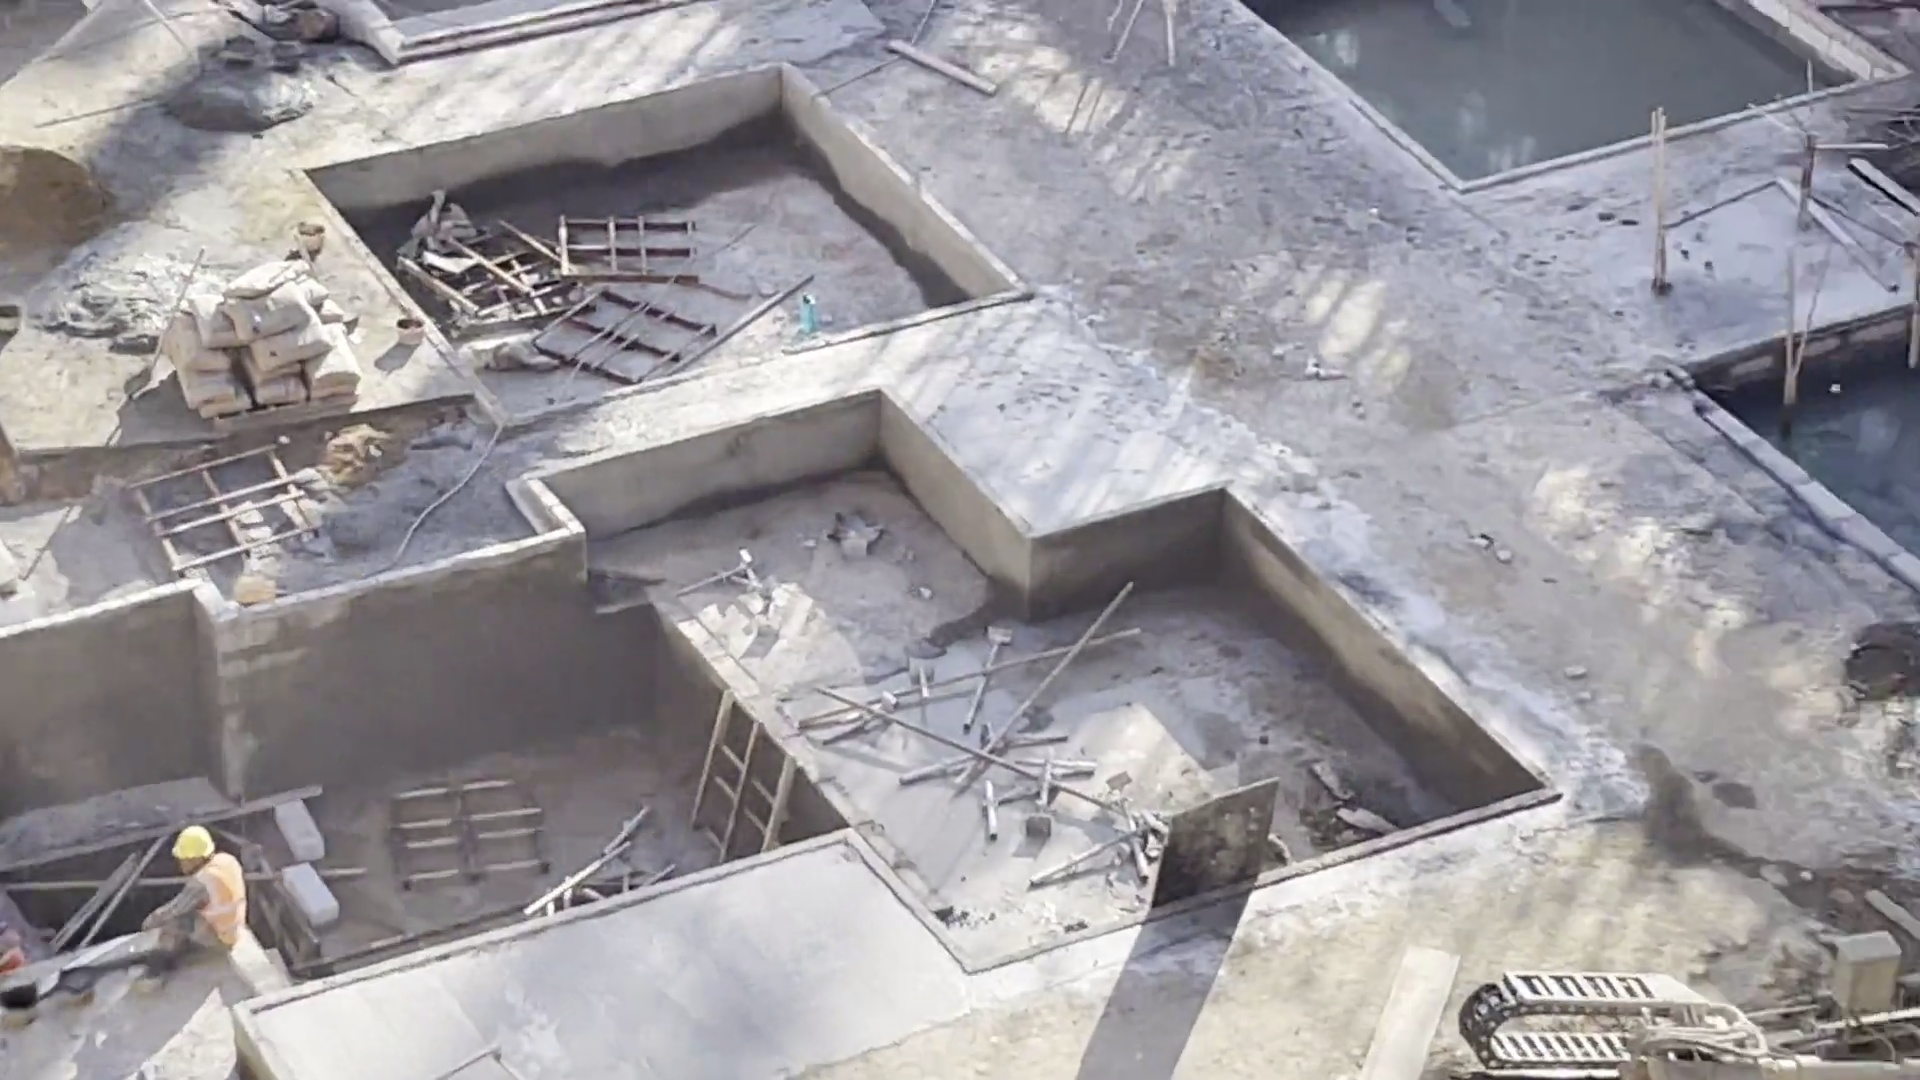helmet: (167, 823, 220, 871)
person: (147, 828, 251, 978)
vest: (176, 861, 250, 948)
